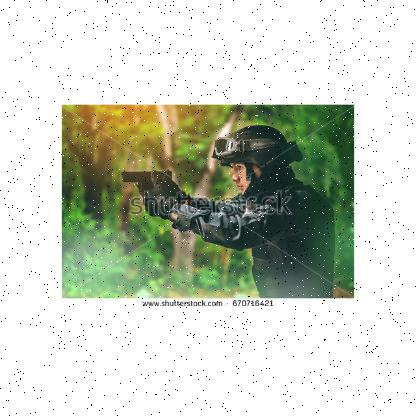gun: (117, 167, 175, 215)
